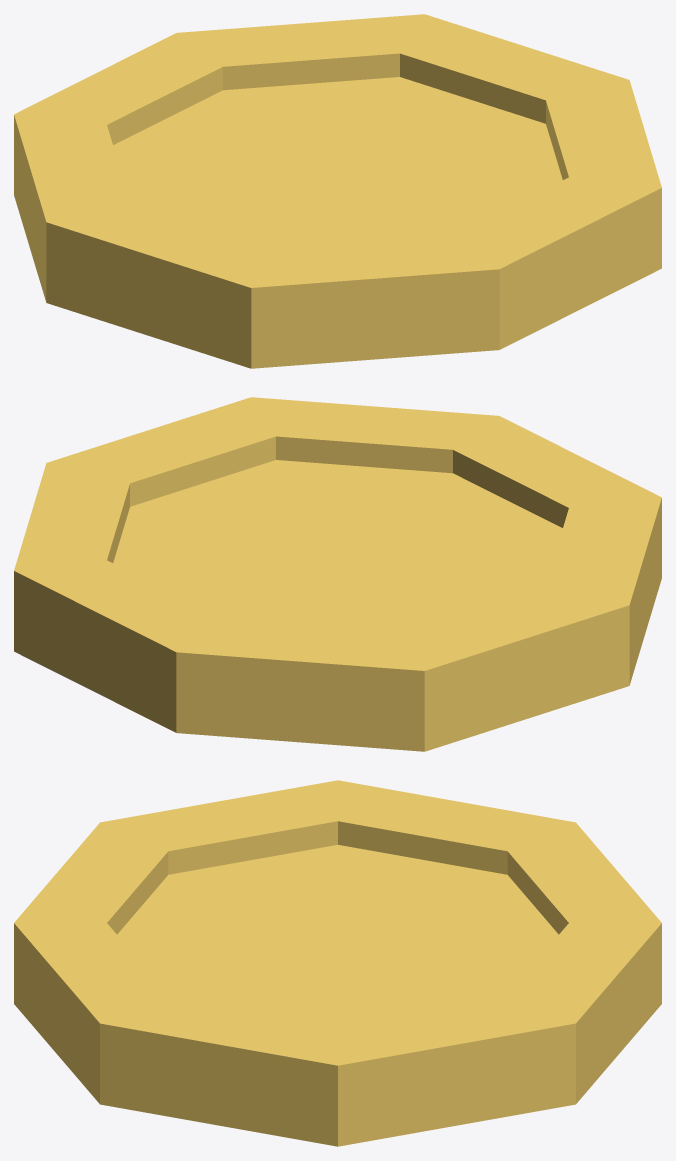
File: 0QjRoZvnOKT.glb
3 renders of one model, top to bottom at view 1: azimuth 30°, elevation 25°; view 2: azimuth 150°, elevation 25°; view 3: azimuth 270°, elevation 25°, orthographic.
Visible parts, largest first — view 1: Cube.002_Cube; view 2: Cube.002_Cube; view 3: Cube.002_Cube.
Part boxes in pixels (left/top/right/bottom): Cube.002_Cube: left=14, top=14, right=661, bottom=368; Cube.002_Cube: left=14, top=397, right=661, bottom=751; Cube.002_Cube: left=14, top=780, right=661, bottom=1146.
Bounding box in the file's own units: 7.56 × 1 × 7.25.
